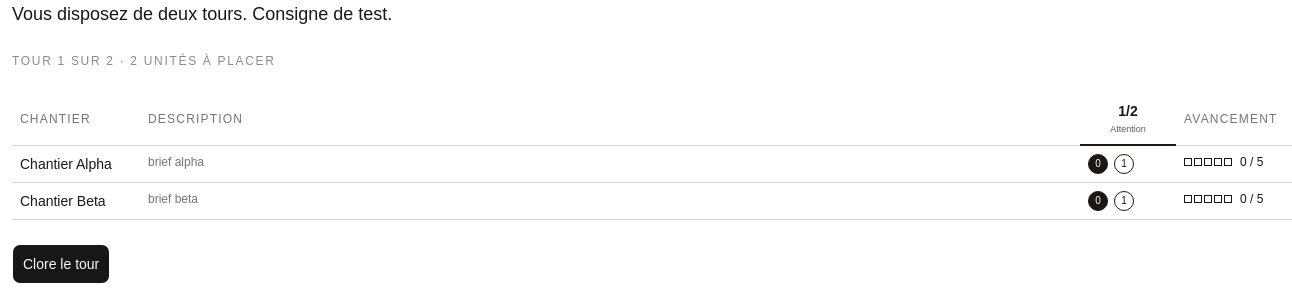
Test: three tracks game, rendered › advances to the next turn on close, and loses attention left unplaced
Click the radio button named "une unité sur Chantier Alpha, tour 1" at x=1124, y=164, box [1114,154,1134,174]
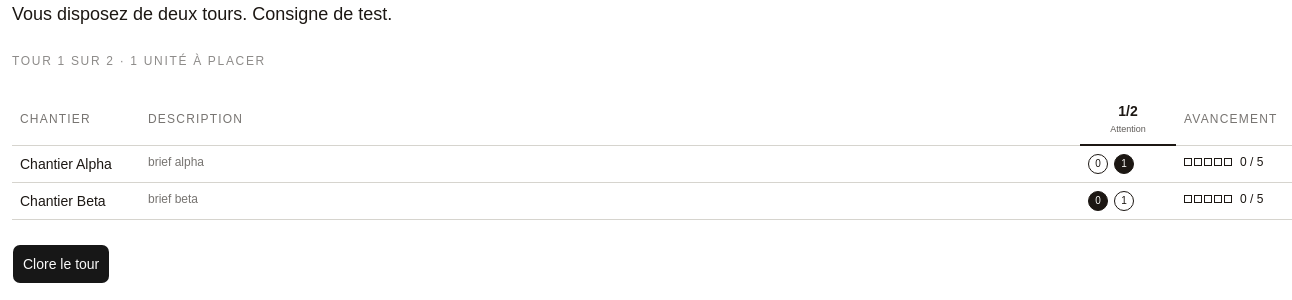
Click the button "Clore le tour" at x=61, y=264, box [12,244,110,284]
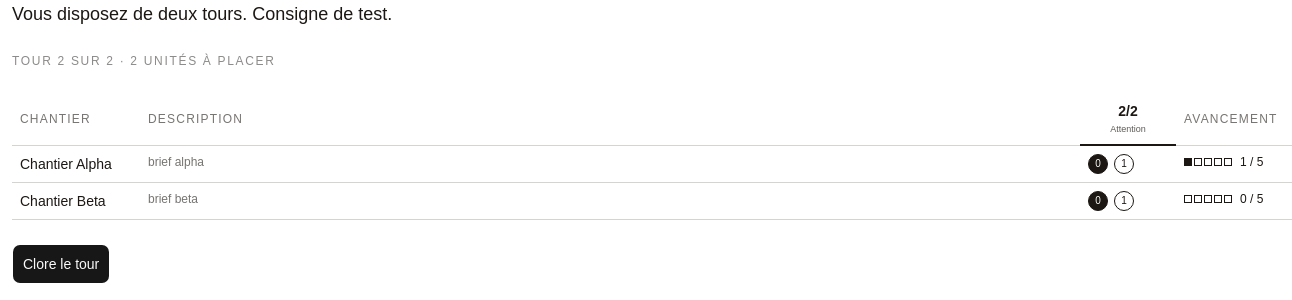
Check: the text "Tour 2 sur 2 · 2 unités à placer" is shown, box [12,54,276,68]
